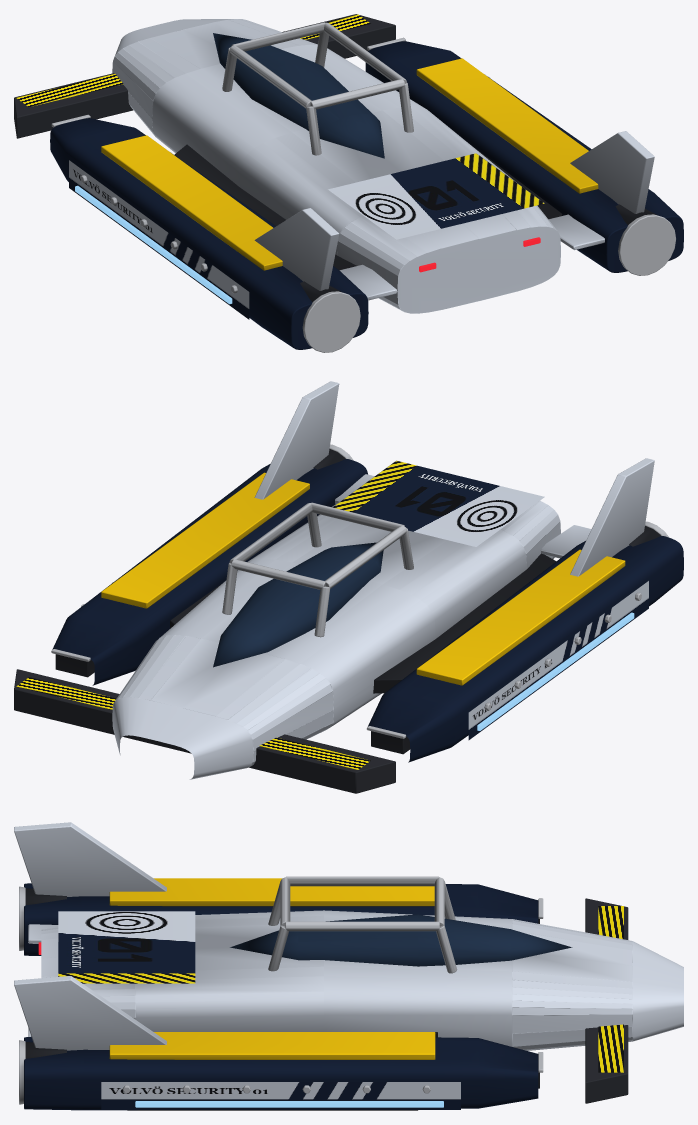
Rendered from craft_0.glb.
3 renders of one model, top to bottom at view 1: azimuth 30°, elevation 25°; view 2: azimuth 150°, elevation 25°; view 3: azimuth 270°, elevation 25°, orthographic.
Visible parts, largest first — view 1: craft_0_body, craft_0_livery, craft_0_canopy, craft_0_hull_L, craft_0_hazard, flap_R_plate, flap_L_plate; view 2: craft_0_body, craft_0_livery, craft_0_canopy, craft_0_hull_L, craft_0_hazard, flap_L_plate; view 3: craft_0_body, craft_0_livery, craft_0_canopy, craft_0_hull_R, craft_0_hazard.
Boxes of the visible parts, left/top/right/bottom form: craft_0_body: left=14, top=14, right=683, bottom=352; craft_0_livery: left=328, top=153, right=544, bottom=239; craft_0_canopy: left=213, top=33, right=384, bottom=158; craft_0_hull_L: left=69, top=160, right=249, bottom=319; craft_0_hazard: left=16, top=14, right=370, bottom=107; flap_R_plate: left=548, top=214, right=604, bottom=250; flap_L_plate: left=339, top=264, right=396, bottom=300; craft_0_body: left=14, top=381, right=683, bottom=793; craft_0_livery: left=332, top=460, right=544, bottom=546; craft_0_canopy: left=213, top=542, right=383, bottom=667; craft_0_hull_L: left=468, top=581, right=648, bottom=740; craft_0_hazard: left=16, top=677, right=370, bottom=769; flap_L_plate: left=541, top=525, right=591, bottom=558; craft_0_body: left=14, top=822, right=683, bottom=1110; craft_0_livery: left=58, top=911, right=195, bottom=983; craft_0_canopy: left=230, top=914, right=572, bottom=966; craft_0_hull_R: left=101, top=1082, right=460, bottom=1109; craft_0_hazard: left=598, top=906, right=623, bottom=1072.
Bounding box in the file's own units: 5.48 × 1.63 × 7.82.
Materials: 12 (3 with a texture image).
